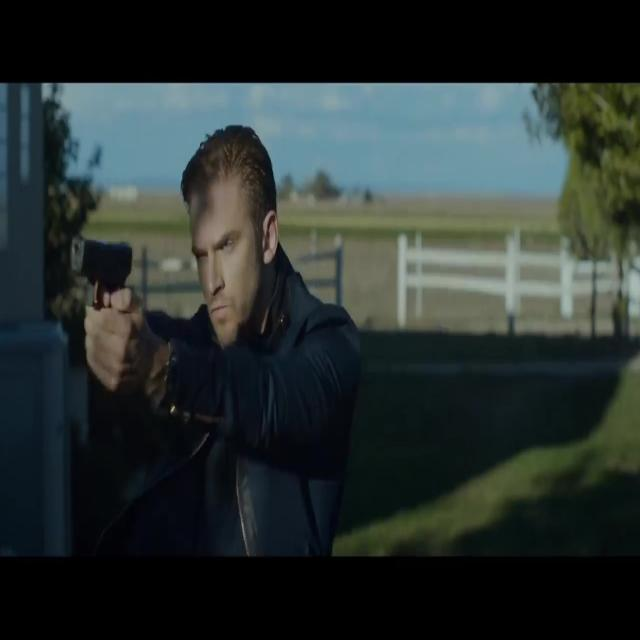Weapon: (56, 216, 159, 328)
